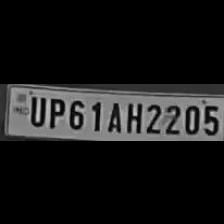0: (181, 100, 199, 134)
1: (86, 98, 104, 132)
2: (143, 100, 161, 134), (162, 100, 180, 134)
5: (200, 101, 220, 135)
6: (64, 96, 84, 130)
A: (104, 98, 122, 132)
H: (124, 99, 142, 133)
P: (44, 94, 64, 128)
U: (27, 93, 46, 127)
